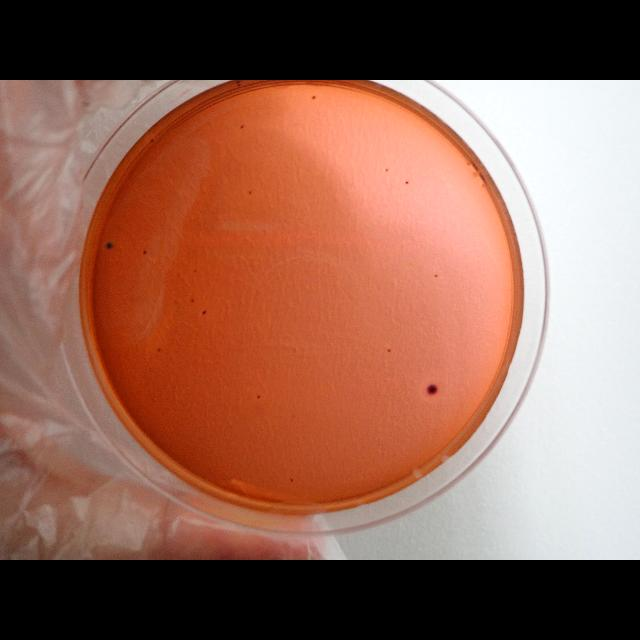colony: (422, 381, 442, 399), (104, 239, 115, 251), (154, 345, 164, 355), (200, 306, 208, 318), (309, 92, 317, 102), (238, 122, 246, 132), (246, 188, 254, 198), (188, 296, 196, 306), (432, 272, 440, 280), (288, 476, 296, 484), (142, 248, 148, 258), (404, 178, 410, 188), (384, 166, 391, 174), (255, 392, 261, 400), (386, 347, 392, 355)
